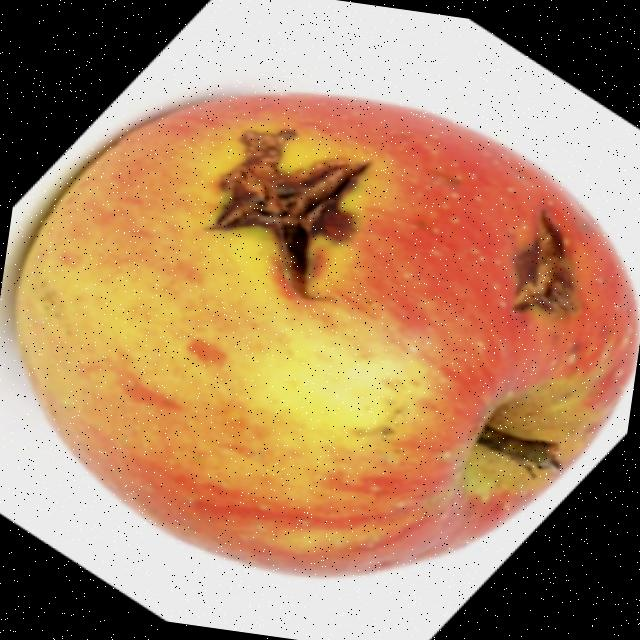overripe: (0, 51, 640, 623)
